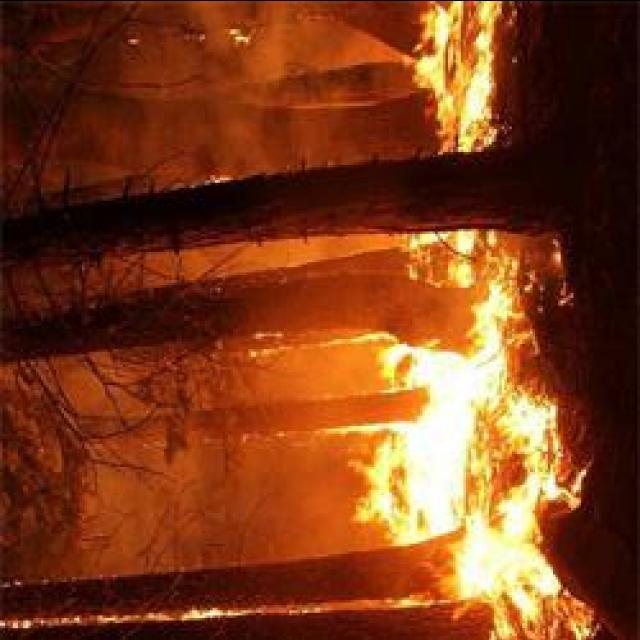fire: (353, 322, 564, 542), (413, 0, 499, 148)
